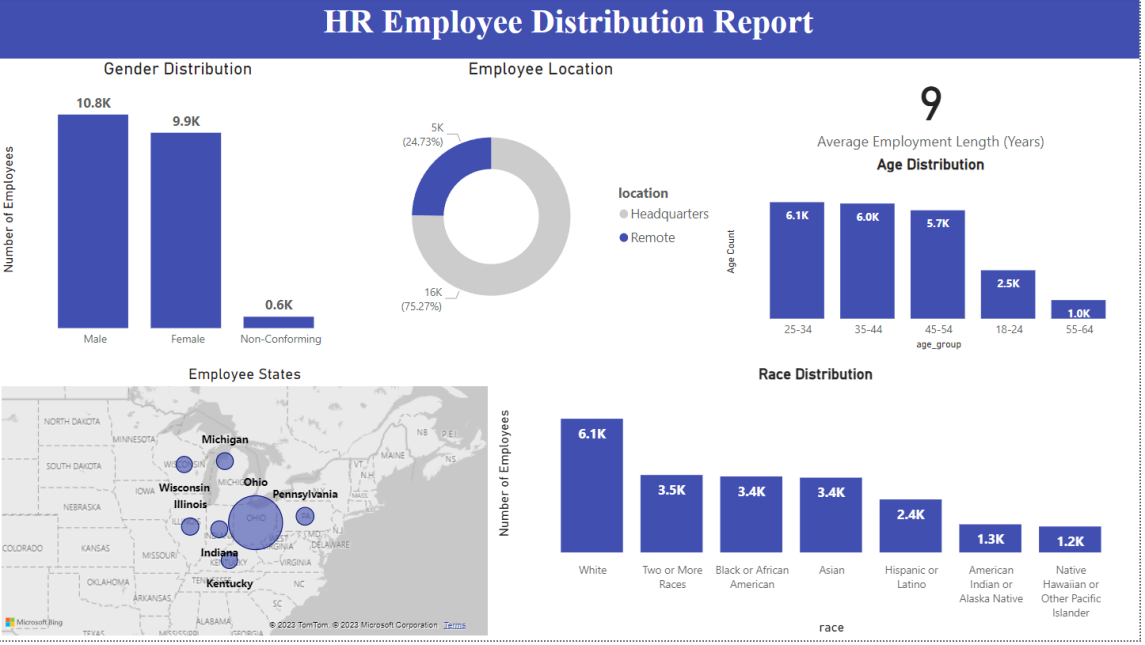

The page's visual inventory and layout, read from the dashboard file:
{"tool":"powerbi","page":{"name":"Page 1","canvas":[1280,720],"ordinal":0},"visuals":[{"type":"textbox","box":[0,0,1279.6,68.7],"z":0},{"type":"card","fields":{"Values":["Sum(Avg Length.avg_length_of_employement)"]},"box":[811.7,68.6,468.9,108.3],"z":1000},{"type":"columnChart","title":"Gender Distribution","fields":{"Category":["Gender.gender"],"Y":["Sum(Gender.Count)"]},"box":[0,68.6,405.8,331.8],"z":2000},{"type":"donutChart","title":"Employee Location","fields":{"Y":["Sum(Location.count)"],"Category":["Location.location"]},"box":[405.8,68.6,405.8,331.8],"z":3000},{"type":"map","title":"Employee States","fields":{"Size":["Sum(Location State.count)"],"Category":["Location State.location_state"]},"box":[0,411.3,555.3,308.5],"z":4000},{"type":"clusteredColumnChart","title":"Race Distribution","fields":{"Category":["Race.race"],"Y":["Sum(Race.Count)"]},"box":[555.3,411.3,723.9,307.1],"z":5000},{"type":"columnChart","title":"Age Distribution","fields":{"Category":["Age.age_group"],"Y":["Sum(Age.count)"]},"box":[811.7,176.9,468.9,223.5],"z":6000}]}

Visuals, with their boxes in screenshot pixels (x1, y1, x2, y2), scaled from the page's 1280x720 canvas onto the 1145x645 screenshot:
textbox: 0, 0, 1144, 62
card - Sum(Avg Length.avg_length_of_employement): 726, 61, 1144, 158
"Gender Distribution" columnChart: 0, 61, 363, 359
"Employee Location" donutChart: 363, 61, 726, 359
"Employee States" map: 0, 368, 497, 644
"Race Distribution" clusteredColumnChart: 497, 368, 1144, 644
"Age Distribution" columnChart: 726, 158, 1144, 359
